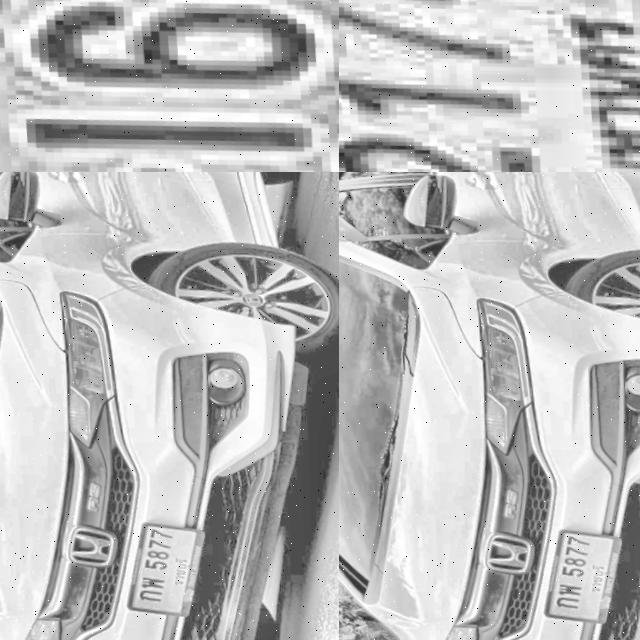license-plate: (0, 0, 339, 172), (339, 0, 640, 172), (121, 505, 221, 614), (538, 512, 638, 621)
